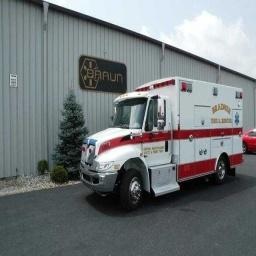Ambulance: (81, 77, 242, 209)
